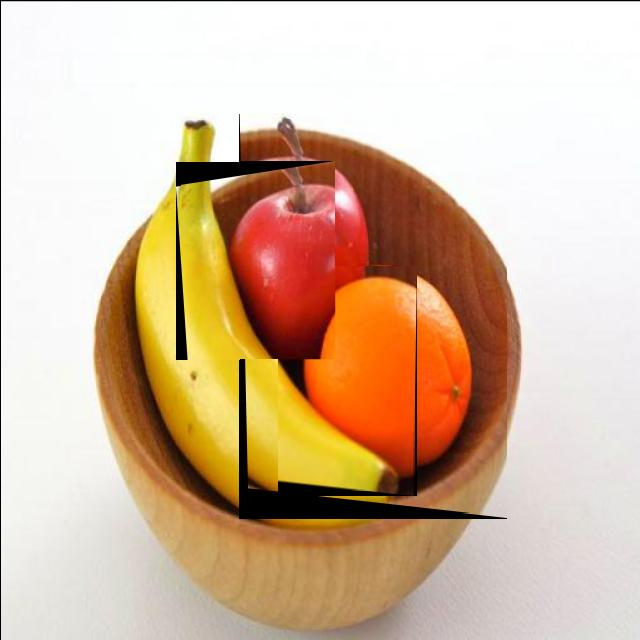Apple: (277, 267, 414, 491)
Banana: (239, 114, 506, 513)
Orange: (180, 174, 334, 359)
